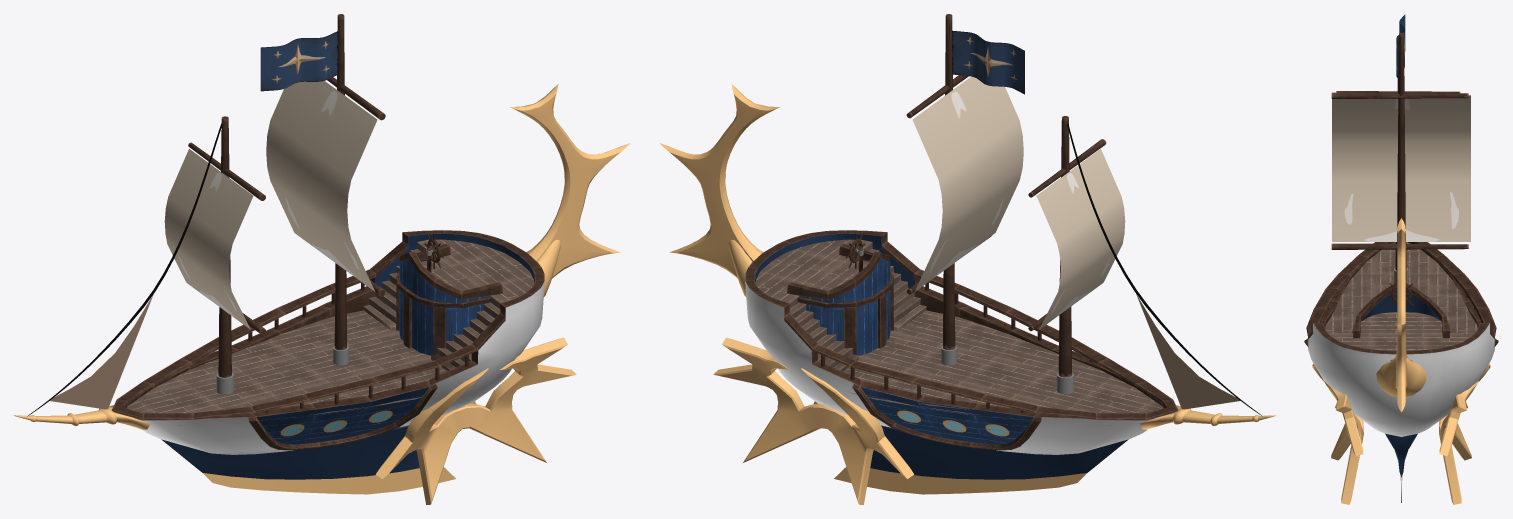
File: Boat.fbx
3 renders of one model, left to right at view 1: azimuth 30°, elevation 25°; view 2: azimuth 150°, elevation 25°; view 3: azimuth 270°, elevation 25°, orthographic. The views are drawn at different scales.
Visible parts, largest first — view 1: PH_Boat; view 2: PH_Boat; view 3: PH_Boat.
Boxes of the visible parts, left/top/right/bottom form: PH_Boat: left=14, top=14, right=630, bottom=504; PH_Boat: left=659, top=14, right=1275, bottom=504; PH_Boat: left=1304, top=14, right=1498, bottom=504.
Bounding box in the file's own units: 1600 × 1219 × 511.
